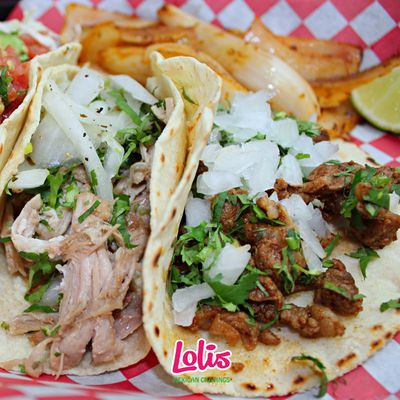soup: (286, 158, 400, 251)
